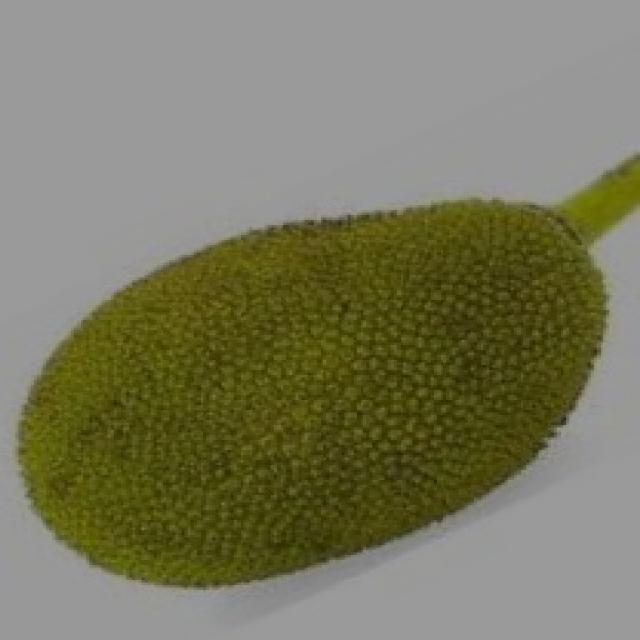Fruit: (3, 208, 415, 632), (246, 178, 634, 568)
